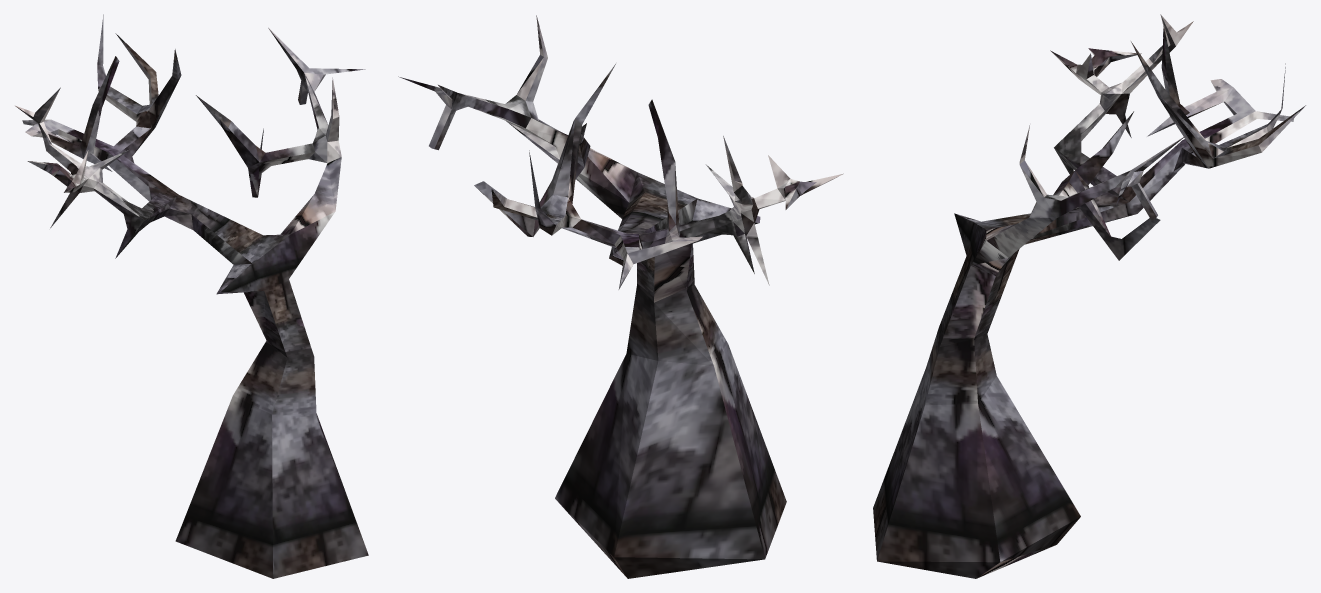
File: BurntTree_1.gltf
The picture shows the model from 3 angles, left to right: view 1: azimuth 30°, elevation 25°; view 2: azimuth 150°, elevation 25°; view 3: azimuth 270°, elevation 25°; orthographic projection. The views are drawn at different scales.
Visible parts, largest first — view 1: BurntTree_1; view 2: BurntTree_1; view 3: BurntTree_1.
Part boxes in pixels (x1=…): BurntTree_1: x1=15, y1=14, x2=368, y2=578; BurntTree_1: x1=398, y1=15, x2=843, y2=578; BurntTree_1: x1=873, y1=14, x2=1305, y2=578.
Bounding box in the file's own units: 8.79 × 11.37 × 9.1.
Materials: 1 (1 with a texture image).
